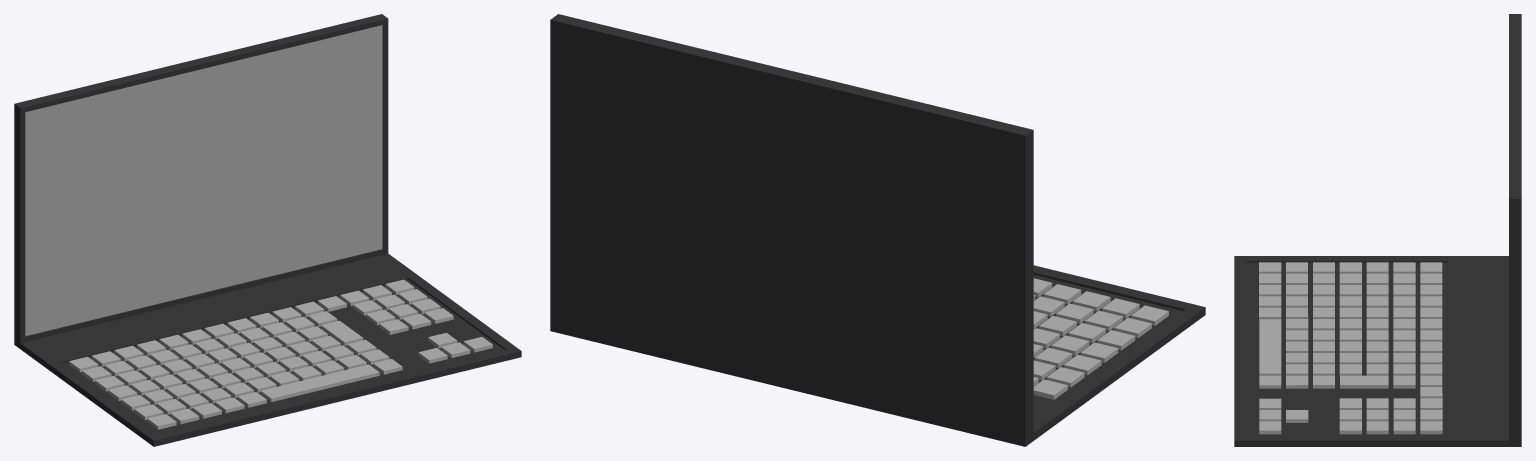
The model's file is Laptop.fbx.
3 views of the same model, side by side, from view 1: azimuth 30°, elevation 25°; view 2: azimuth 150°, elevation 25°; view 3: azimuth 270°, elevation 25° (orthographic). The views are drawn at different scales.
Visible parts, largest first — view 1: Laptop; view 2: Laptop; view 3: Laptop.
Part boxes in pixels (x1,y1,x2,y2): Laptop: (14, 14, 521, 446); Laptop: (550, 14, 1205, 446); Laptop: (1234, 14, 1521, 446).
Size of the model in its own units: 58.59 by 36.68 by 38.52.
